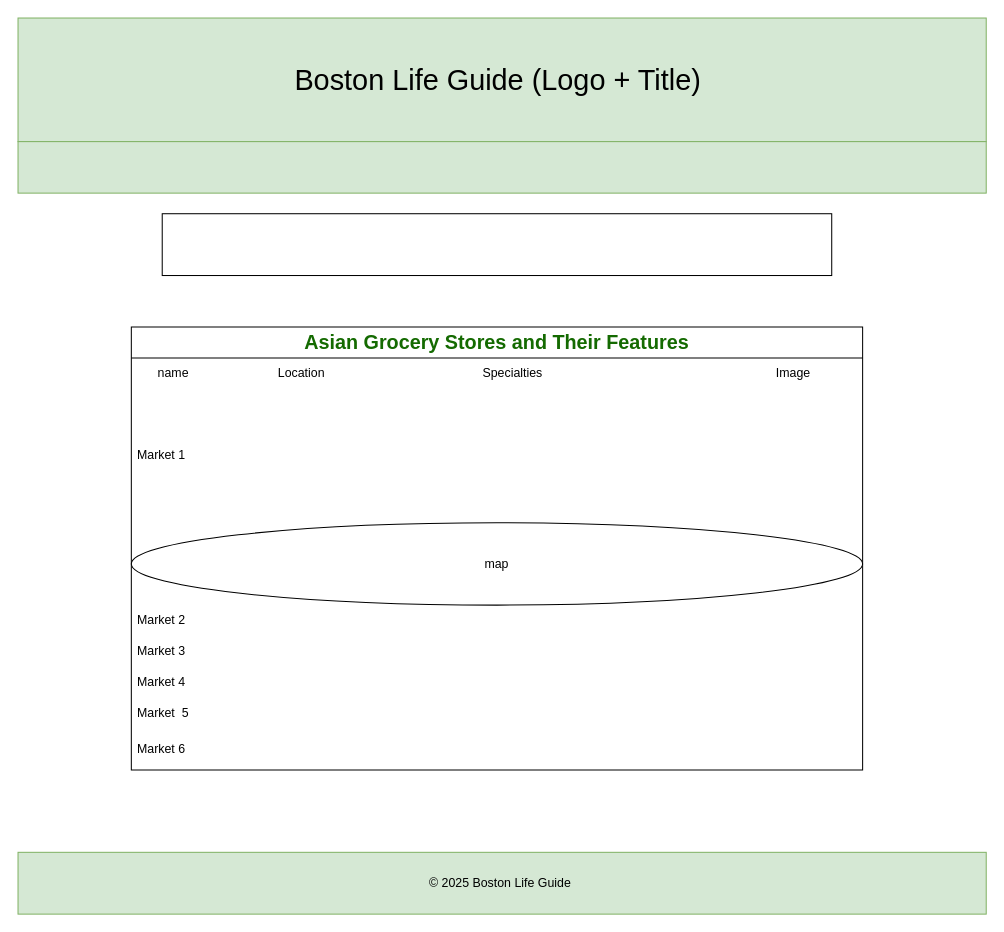
The diagram is 1004 pixels wide and 932 high, and some of its shapes have lost their labels. The box of each missing label's shape, as (x1, y1, x2, y2) in pixels:
Home | About | Supermarkets | Tips | Contact |: (17, 141, 986, 193)
Popular Asian Supermarkets in Boston: (161, 213, 832, 276)
